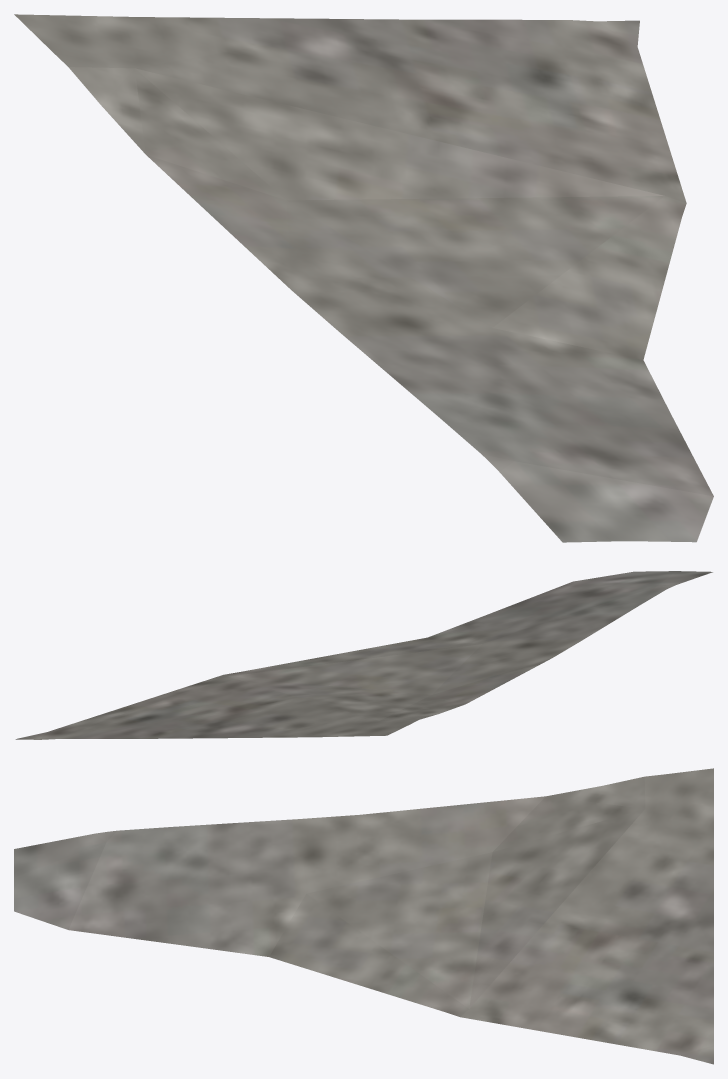
3 renders of one model, top to bottom at view 1: azimuth 30°, elevation 25°; view 2: azimuth 150°, elevation 25°; view 3: azimuth 270°, elevation 25°, orthographic. The views are drawn at different scales.
Size of the model in its own units: 0.5516 by 0.1338 by 0.8374.
Materials: 1 (1 with a texture image).
